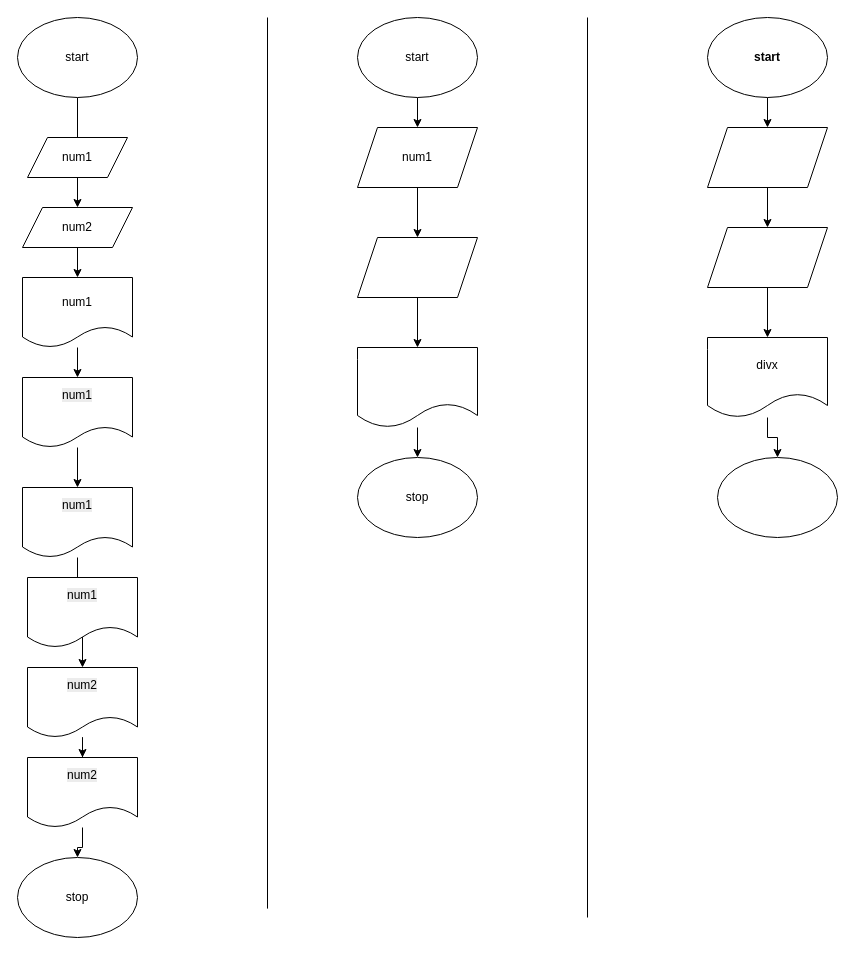
Image size: 855x955. Some labels were removed from this diagram. The shapes that lost their labels are listed below. From the top down, each one's centre as x and y in pixels, then its label:
At [767,157]: "numx".
At [417,267]: "mul1=num1*num1".
At [767,257]: "divx=numx/5".
At [417,387]: "mul1".
